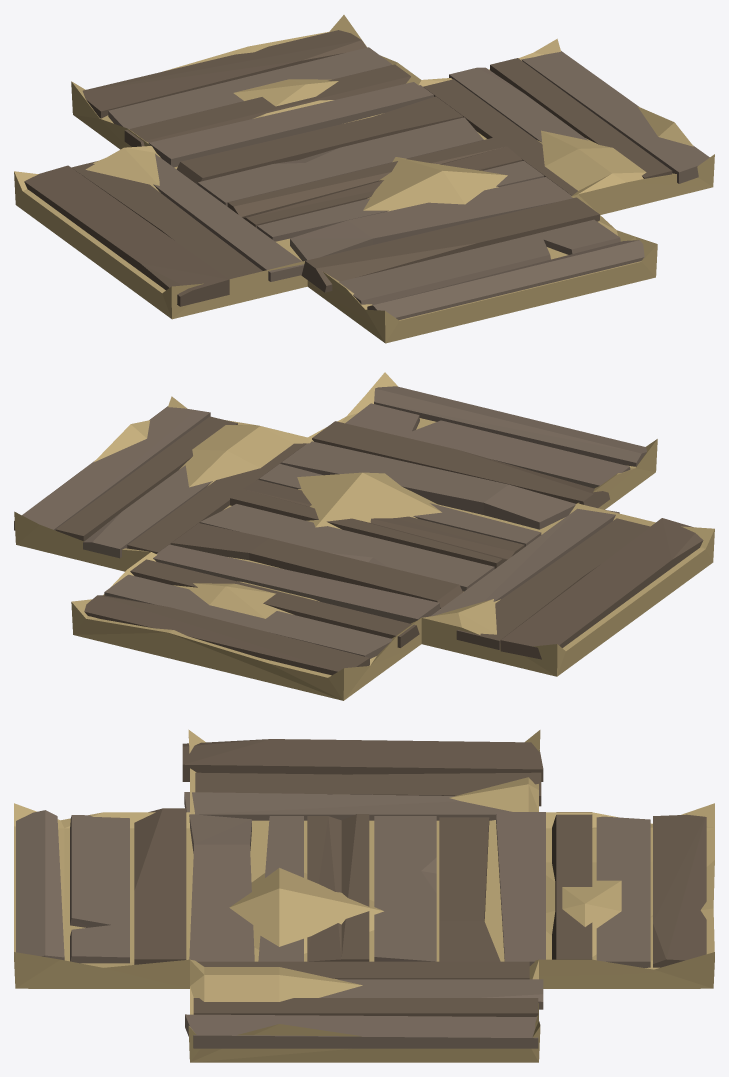
File: Road_Wood_03.glb
The picture shows the model from 3 angles, top to bottom: view 1: azimuth 30°, elevation 25°; view 2: azimuth 150°, elevation 25°; view 3: azimuth 270°, elevation 25°; orthographic projection. The views are drawn at different scales.
Visible parts, largest first — view 1: Road_wood_3; view 2: Road_wood_3; view 3: Road_wood_3.
Boxes of the visible parts, x1,y1,x2,y2 form: Road_wood_3: (14,15,714,343); Road_wood_3: (14,372,714,700); Road_wood_3: (14,729,714,1062).
Size of the model in its own units: 6.04 by 0.4638 by 6.02.
1 material, 1 textured.
